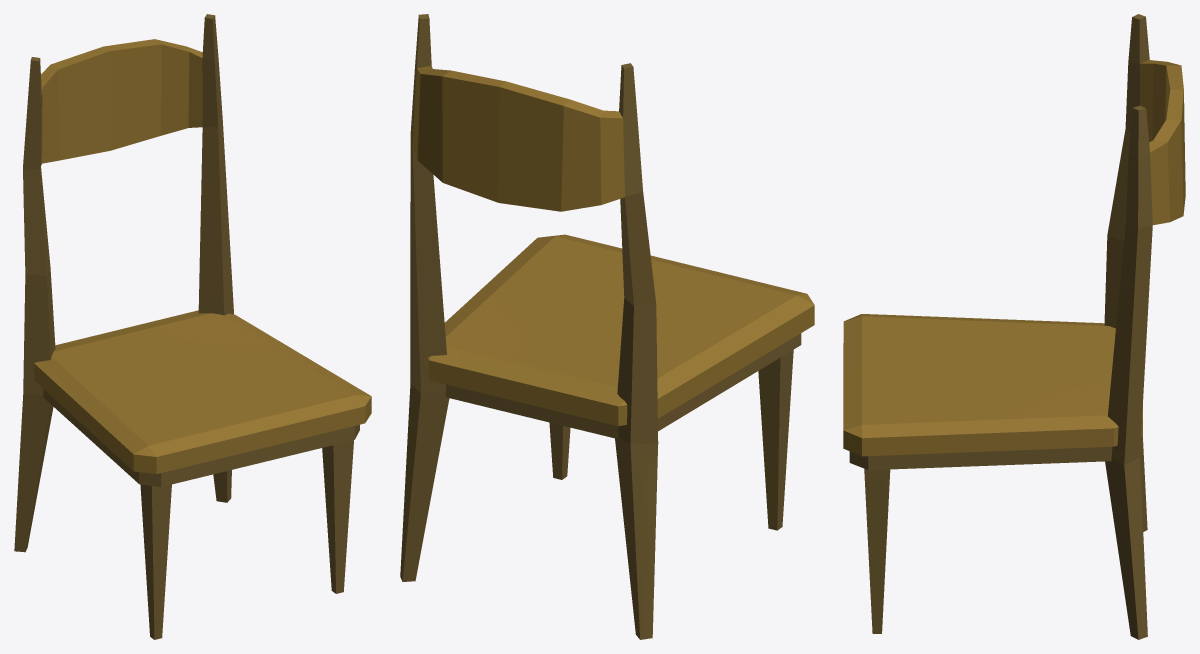
The model's file is Museum_chair.fbx.
The picture shows the model from 3 angles, left to right: view 1: azimuth 30°, elevation 25°; view 2: azimuth 150°, elevation 25°; view 3: azimuth 270°, elevation 25°; orthographic projection. The views are drawn at different scales.
Parts seen in each view (by area): view 1: Cube; view 2: Cube; view 3: Cube.
Part boxes in pixels (x1=…): Cube: x1=14, y1=14, x2=371, y2=639; Cube: x1=400, y1=14, x2=814, y2=639; Cube: x1=843, y1=14, x2=1185, y2=639.
Size of the model in its own units: 58.54 by 114 by 68.11.
